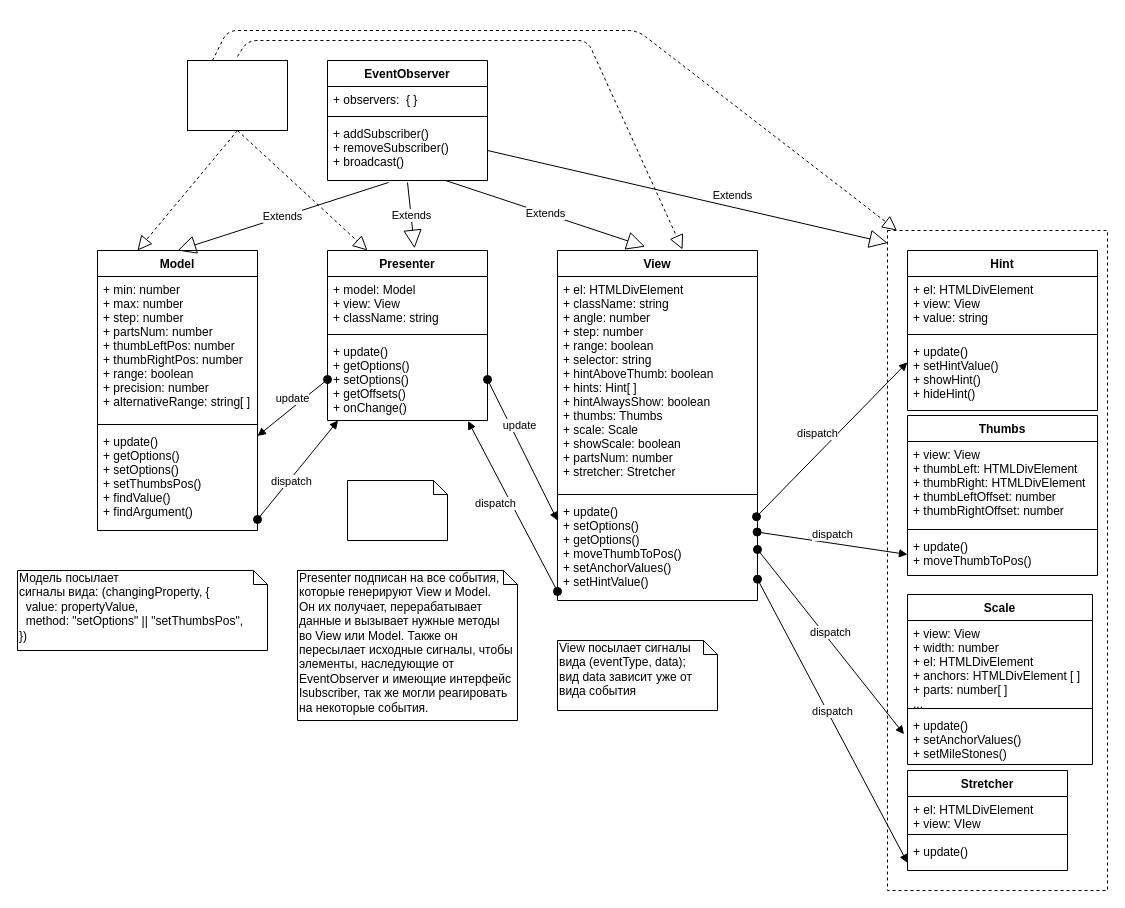
Some shapes in this 1125 by 908 pixel diagram are drawn without their labels. The centre of each missing label's shape, as x and y in pixels:
<<Interface>> ISubscriber + update(): (x=237, y=95)
Slider - ничто иное как синоним Presenter: (x=397, y=510)
